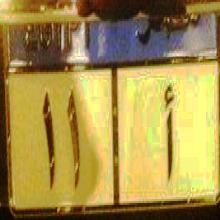1: (40, 88, 58, 192), (66, 89, 81, 196)
alif: (159, 75, 180, 183)
